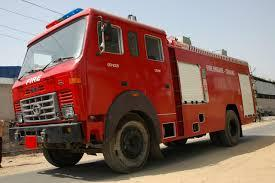Emergency-Vehicles: (19, 42, 247, 167)
